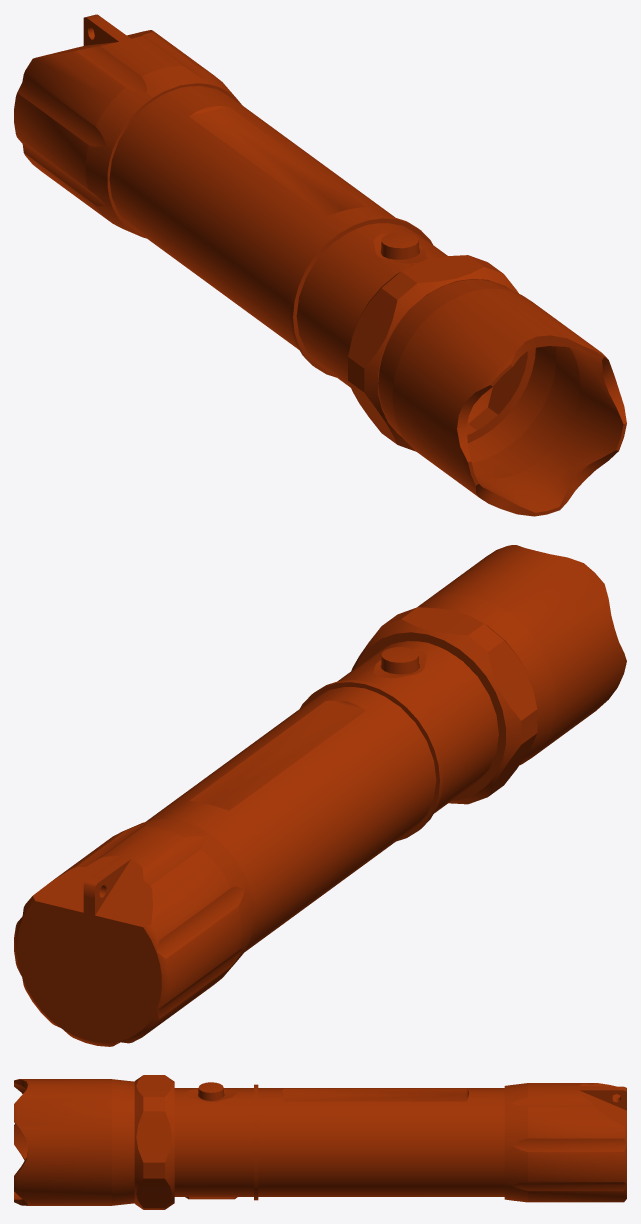
File: torchOutline.dae
The picture shows the model from 3 angles, top to bottom: view 1: azimuth 30°, elevation 25°; view 2: azimuth 150°, elevation 25°; view 3: azimuth 270°, elevation 25°; orthographic projection. The views are drawn at different scales.
Parts seen in each view (by area): view 1: p5_lo; view 2: p5_lo; view 3: p5_lo.
Boxes of the visible parts, left/top/right/bottom form: p5_lo: left=14, top=14, right=626, bottom=516; p5_lo: left=14, top=545, right=626, bottom=1046; p5_lo: left=14, top=1075, right=626, bottom=1209.
Size of the model in its own units: 3.02 by 13.85 by 2.86.
